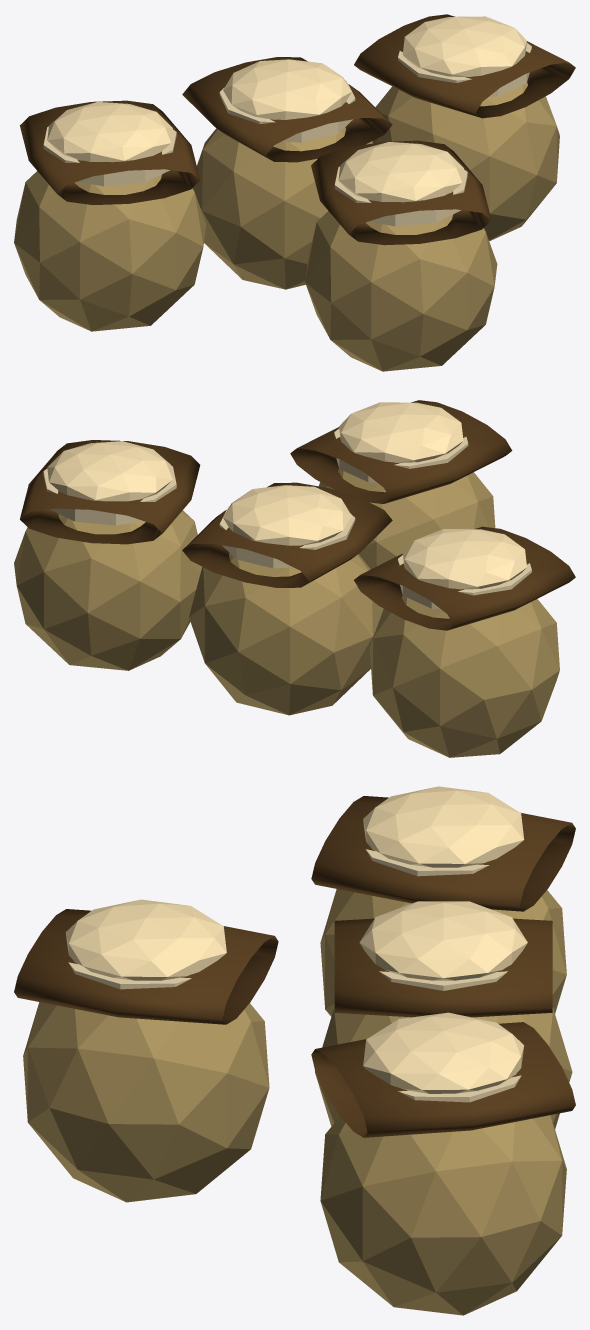
File: pile-flour-4.obj
3 views of the same model, one above another, from view 1: azimuth 30°, elevation 25°; view 2: azimuth 150°, elevation 25°; view 3: azimuth 270°, elevation 25° (orthographic). The views are drawn at different scales.
Visible parts, largest first — view 1: pile-flour-4; view 2: pile-flour-4; view 3: pile-flour-4.
Boxes of the visible parts, x1,y1,x2,y2 form: pile-flour-4: (14, 14, 575, 371); pile-flour-4: (14, 400, 575, 757); pile-flour-4: (14, 786, 575, 1315).
Size of the model in its own units: 0.7915 by 0.3065 by 0.567.
1 material, 1 textured.
